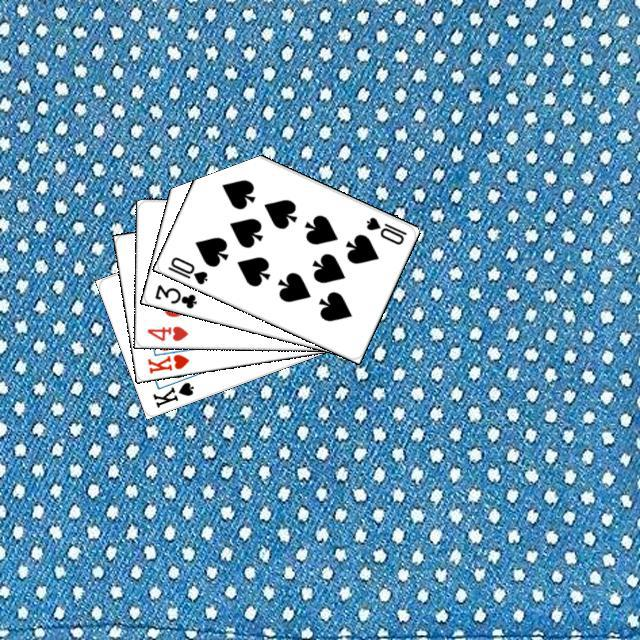10s: (361, 212, 408, 246), (163, 252, 209, 286)
3c: (150, 280, 199, 310)
4h: (142, 321, 190, 343)
Kh: (143, 343, 193, 375)
Ks: (147, 377, 196, 409)
